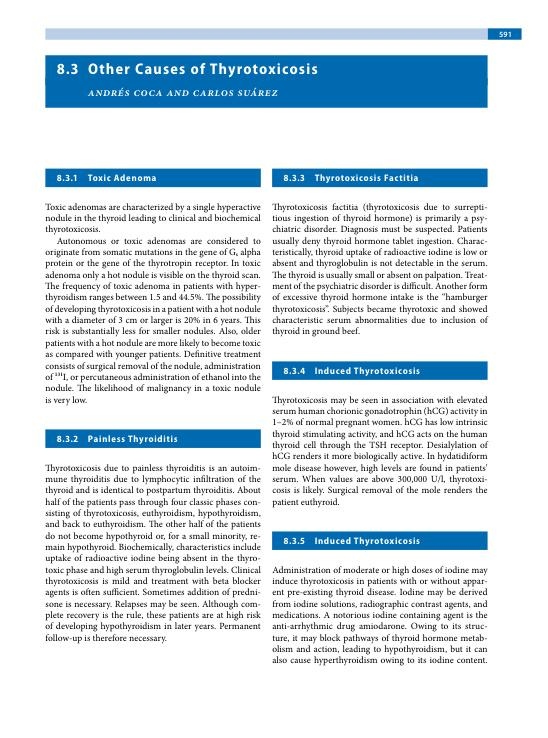chapter-heading: (88, 61, 318, 78)
section-heading: (314, 366, 421, 377), (314, 536, 421, 547), (314, 173, 419, 184), (87, 435, 178, 445), (87, 173, 157, 182)
text: (44, 201, 262, 407), (44, 463, 263, 646), (270, 202, 490, 338), (270, 395, 489, 509), (270, 565, 489, 667)
